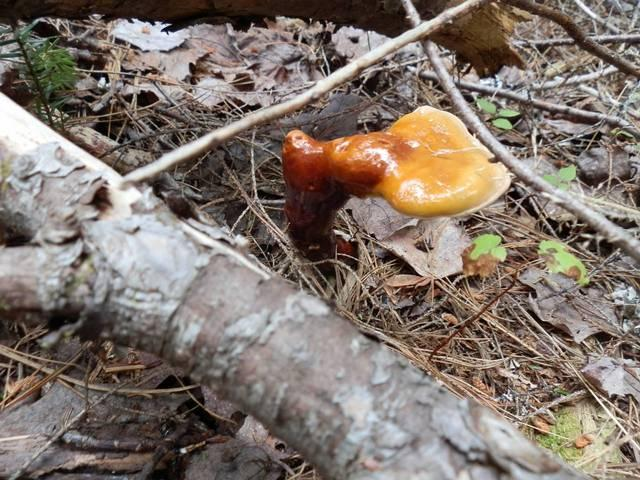poisonous_mushroom: (279, 103, 514, 247)
